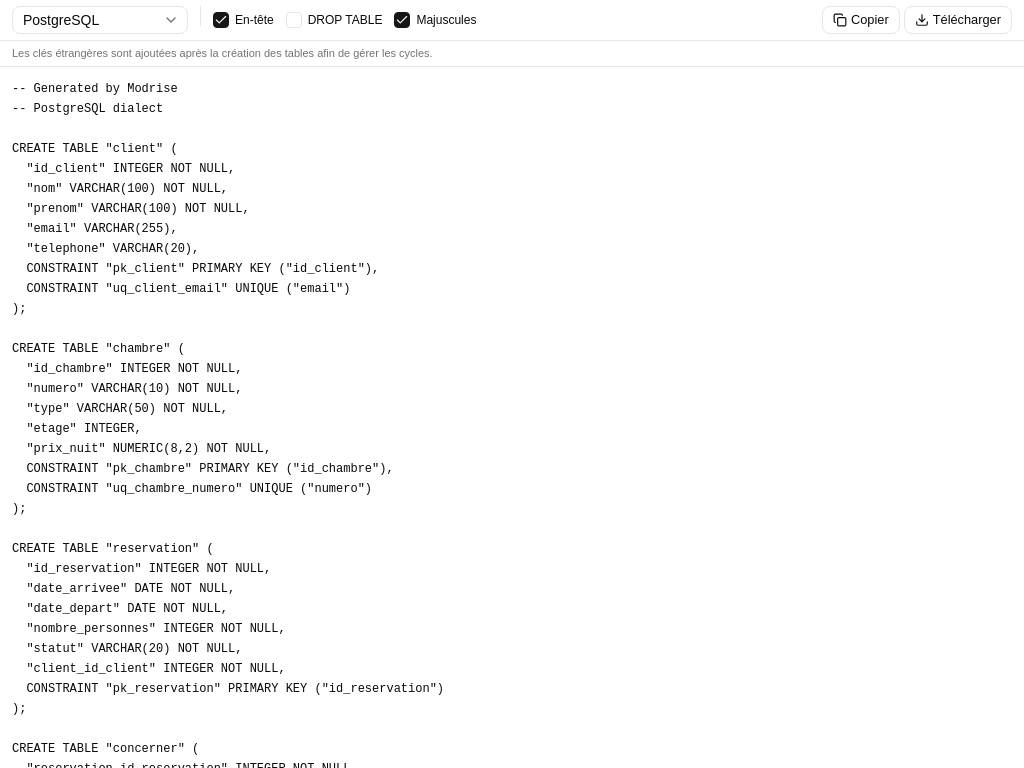
Test: SqlPreviewPanel — sélecteur de dialecte › SQLite n'utilise jamais ALTER TABLE et commence par PRAGMA foreign_keys
Click the dropdown with test id "sql-dialect-select" at (100, 20), box [12,6,188,34]
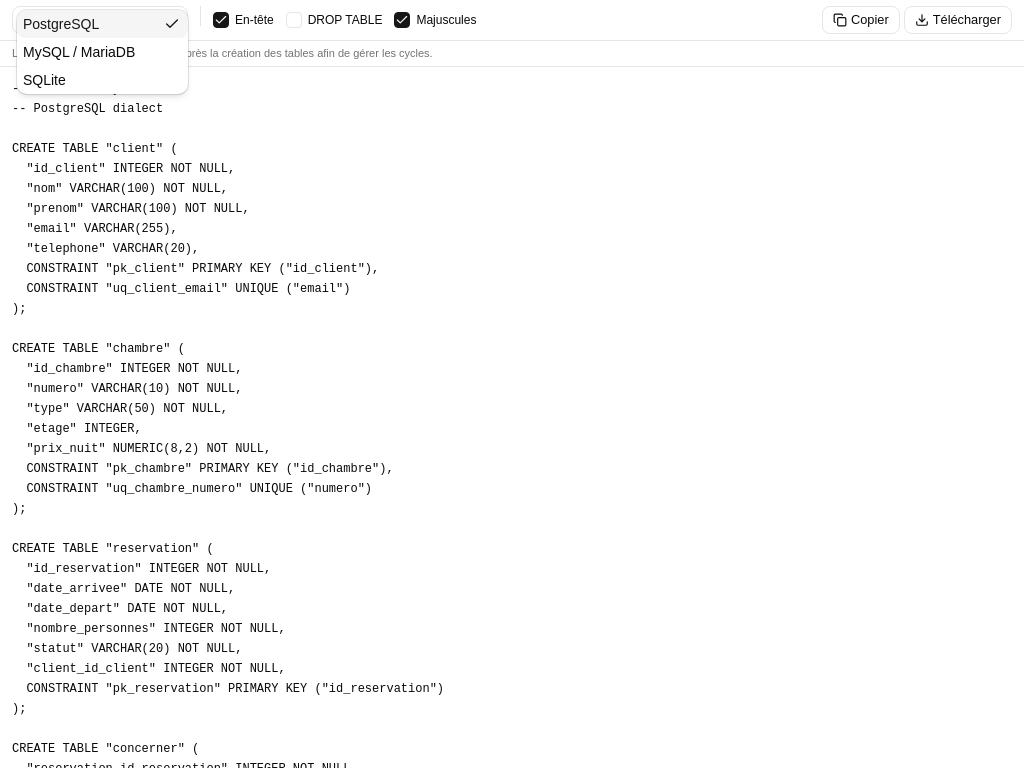
Click the option "SQLite" at (44, 80), box [23,72,66,88]
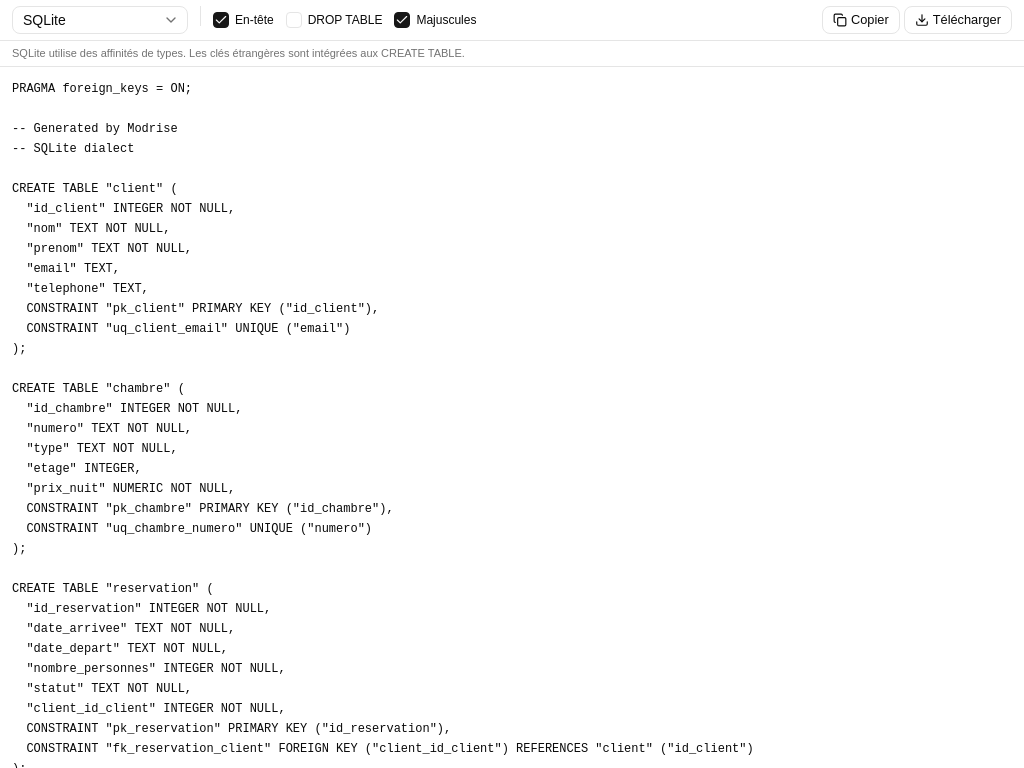
Check: the text with test id "sql-dialect-note" shows "affinités de types", box [12,47,465,59]
